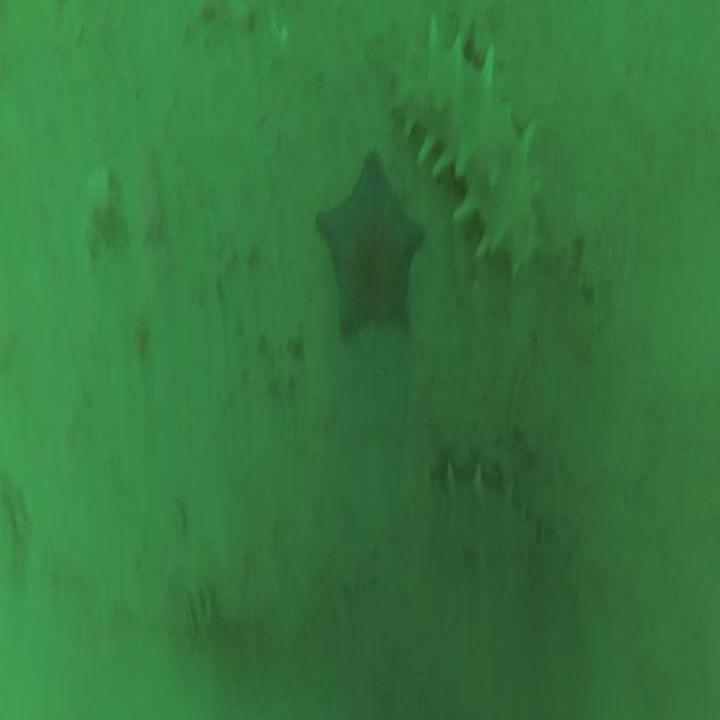holothurian: (385, 12, 540, 274), (412, 469, 540, 576)
starfish: (313, 151, 425, 338)
